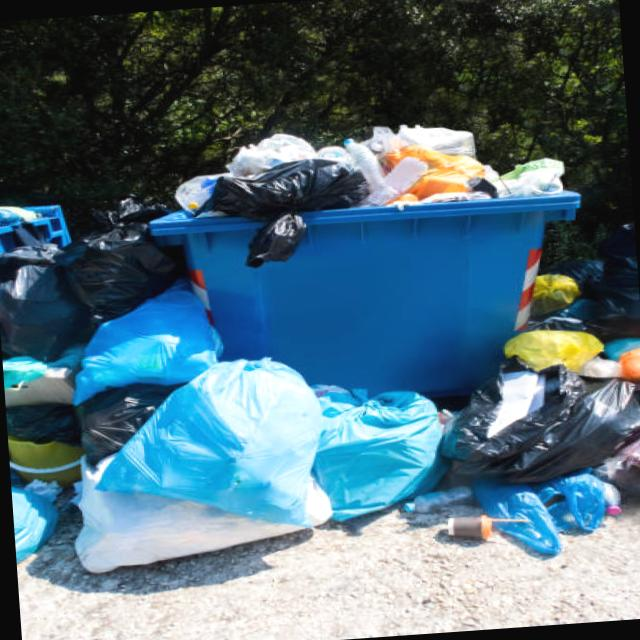garbage: (0, 91, 640, 605)
